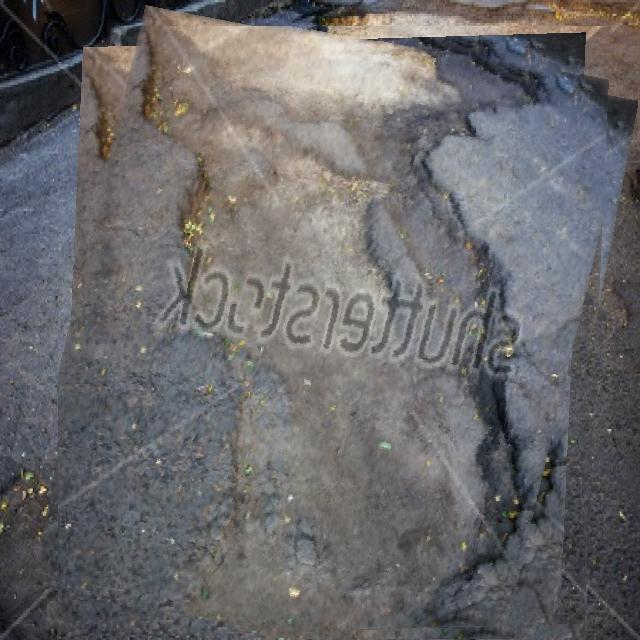Pothole: (58, 26, 612, 640)
